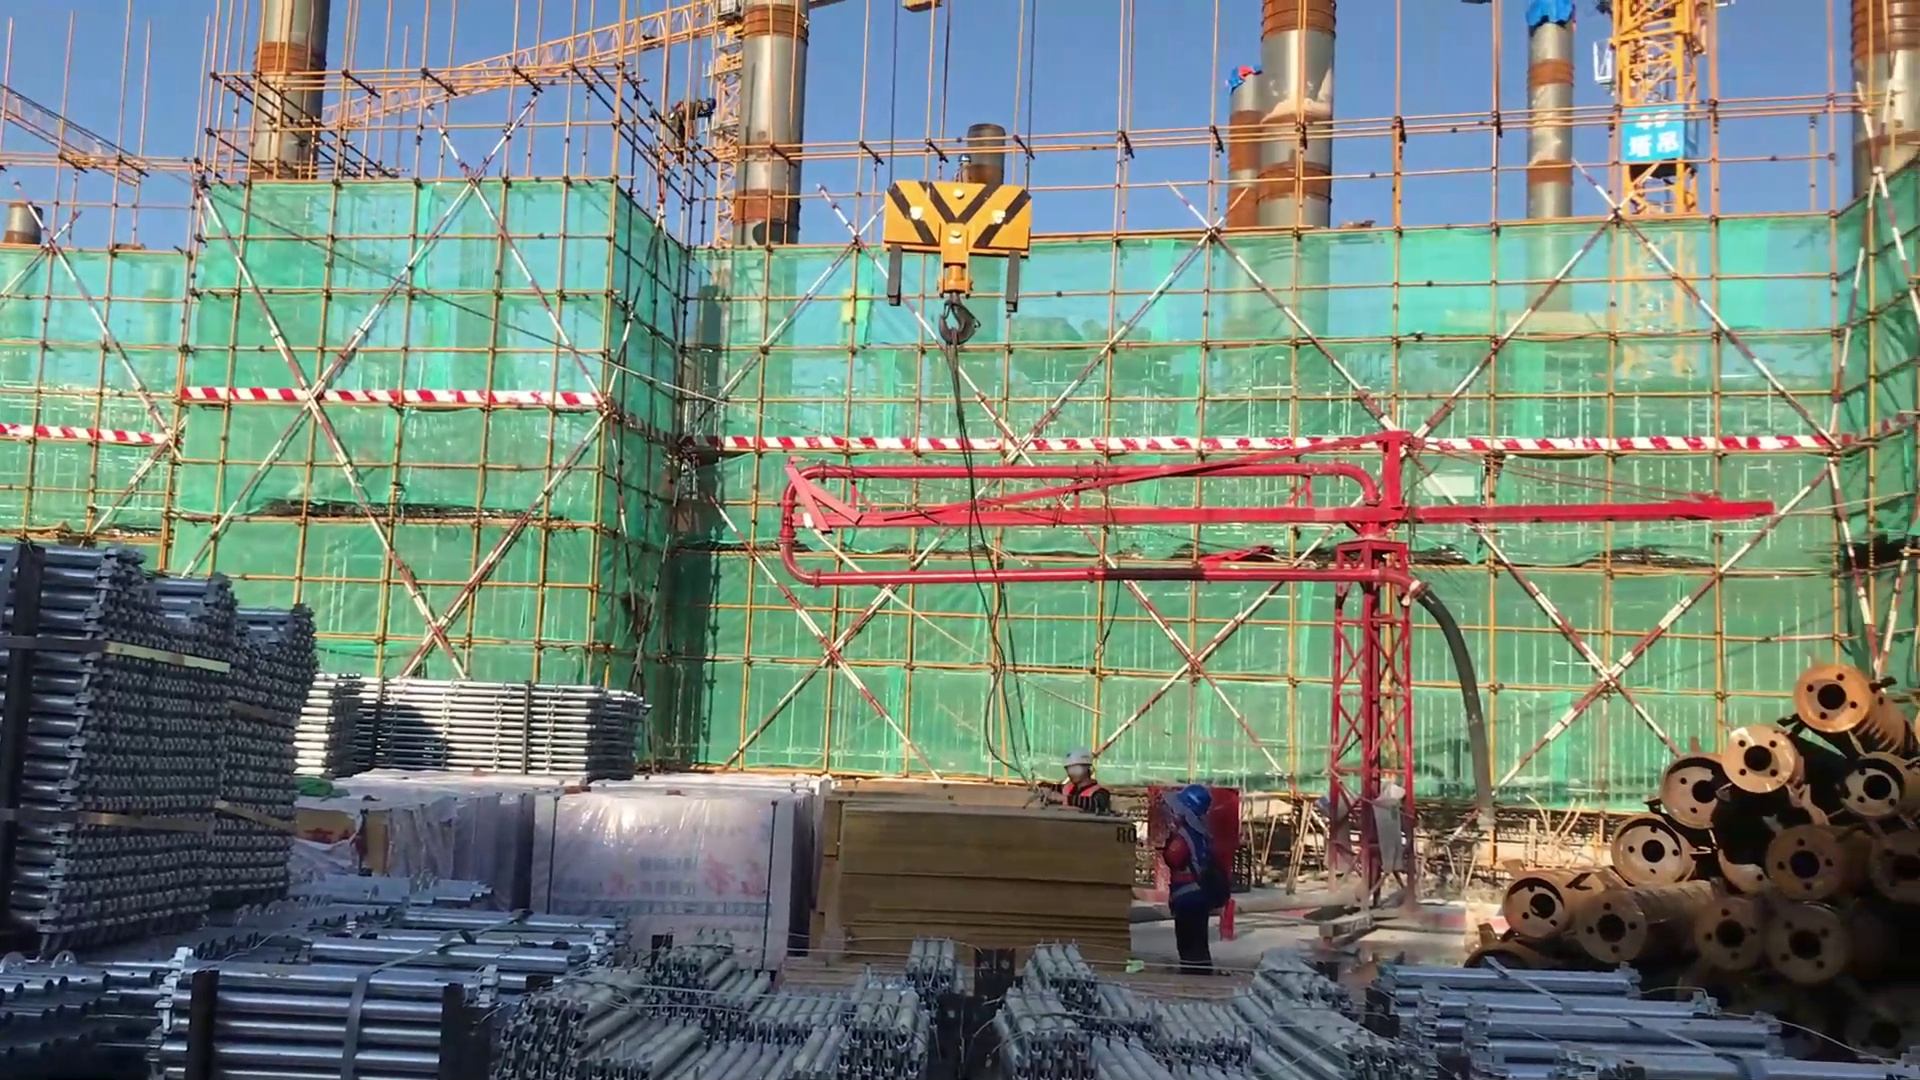board: (809, 780, 1141, 979)
helmet: (1053, 739, 1102, 784), (1166, 780, 1218, 822)
hook: (880, 167, 1038, 366)
person: (1145, 776, 1228, 982), (1028, 752, 1122, 824), (649, 94, 728, 156)
scaffold: (491, 937, 1796, 1080), (1, 526, 348, 949), (1, 866, 591, 1080), (298, 676, 631, 774)
slogan: (1619, 107, 1691, 166)
vest: (1161, 821, 1227, 918), (1057, 778, 1116, 818)
